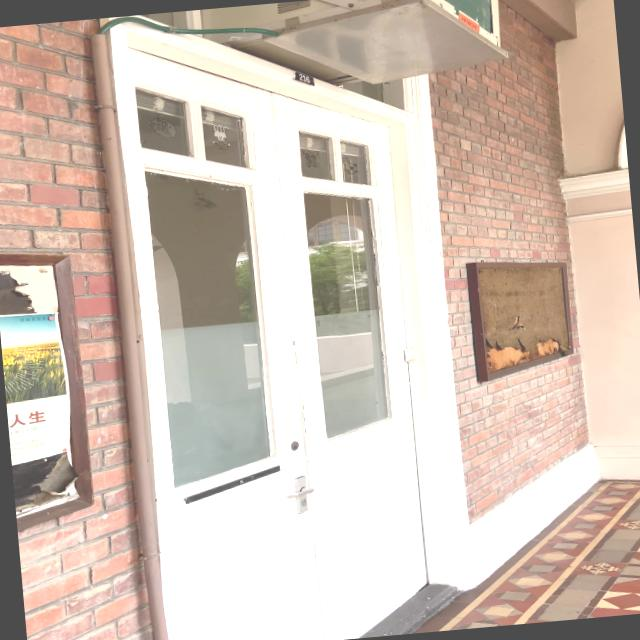room216: (290, 68, 316, 88)
